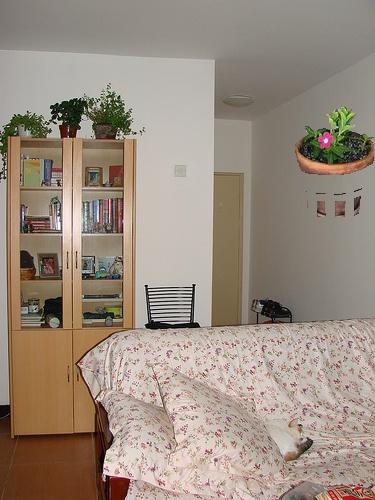tampered: (296, 108, 374, 217)
